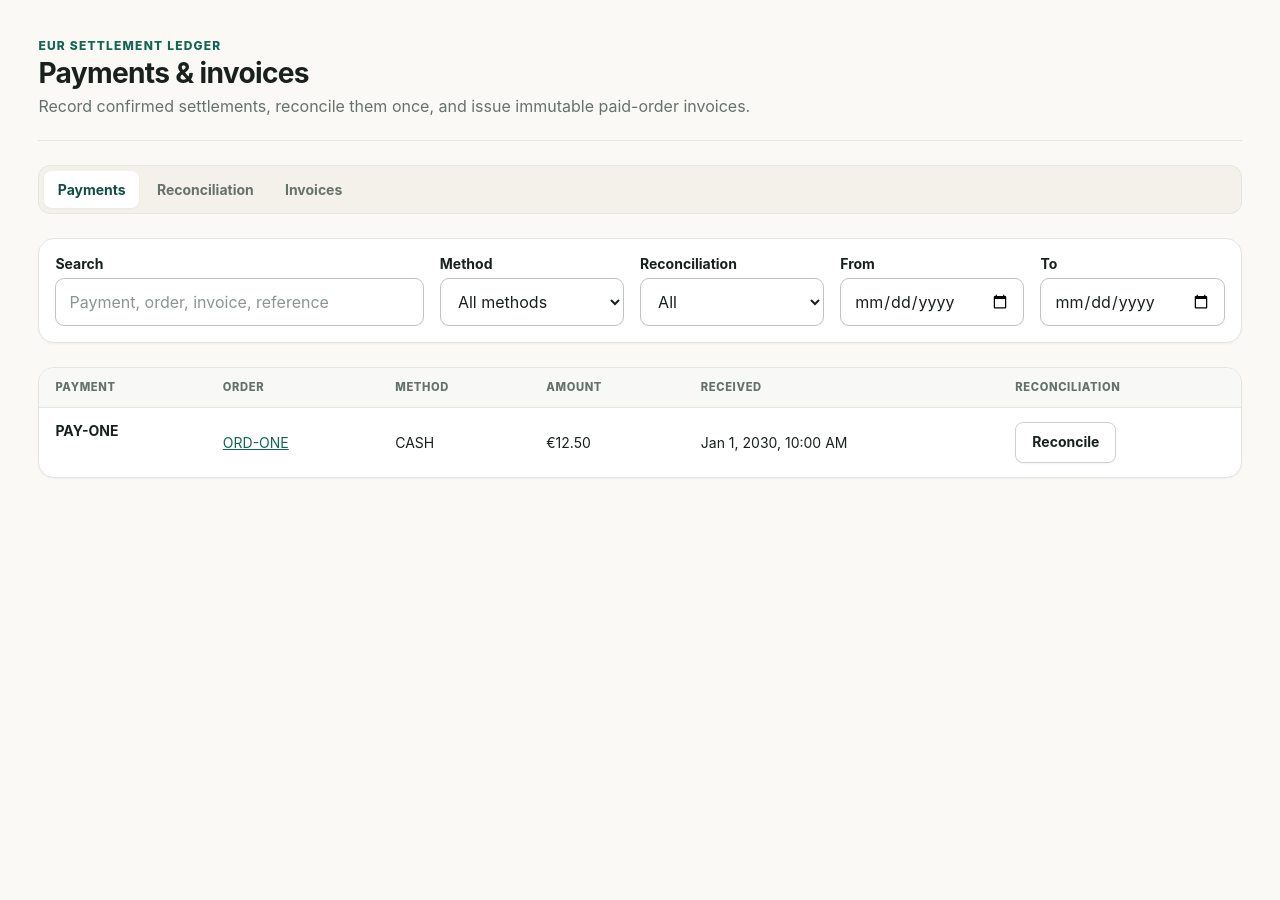
Test: payments page › shows immutable invoice detail and print controls
Step 1. Click the tab "Invoices" → point(314, 189), box [271,171,356,208]
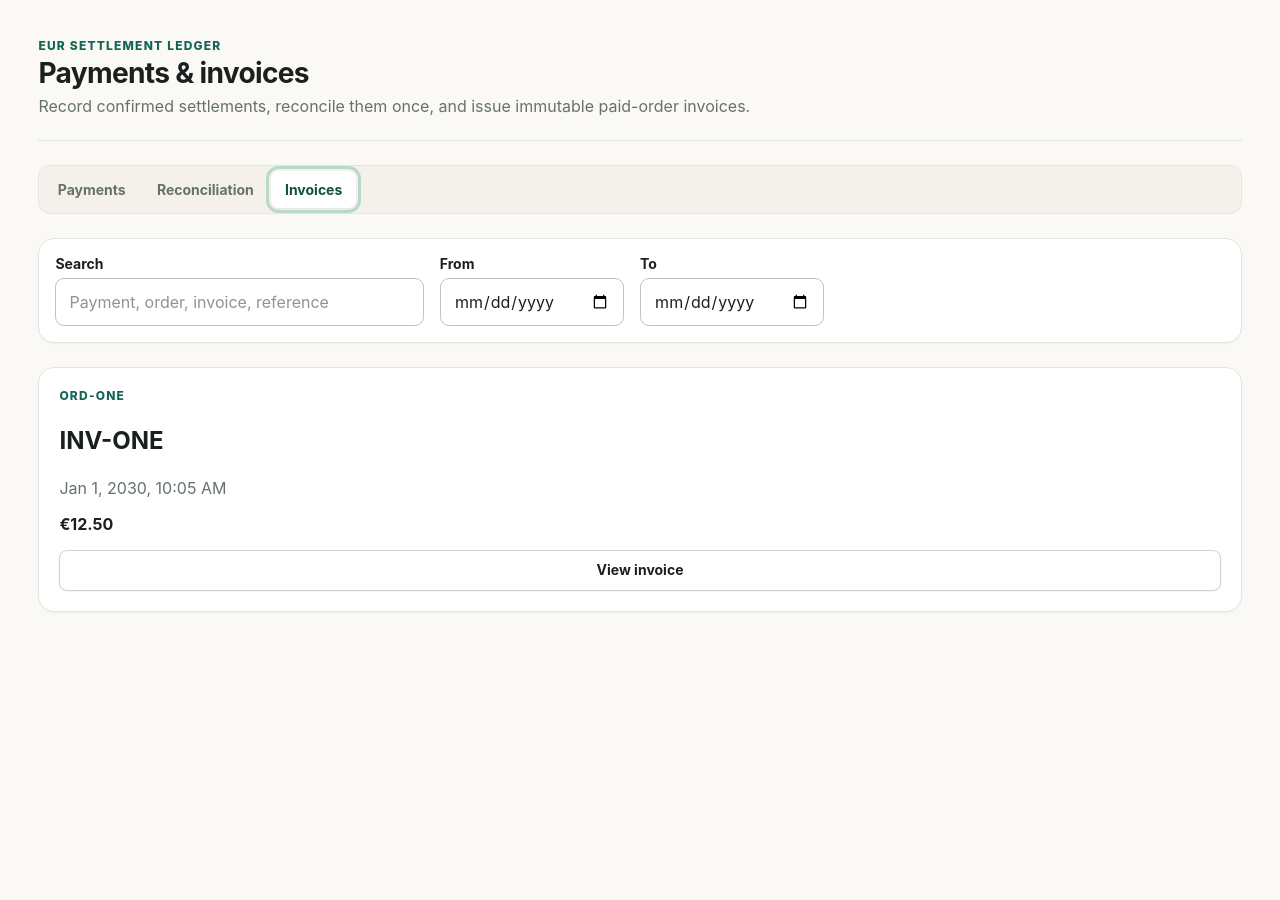
Step 2. Click the button "View invoice" → point(640, 570), box [59,550,1221,591]
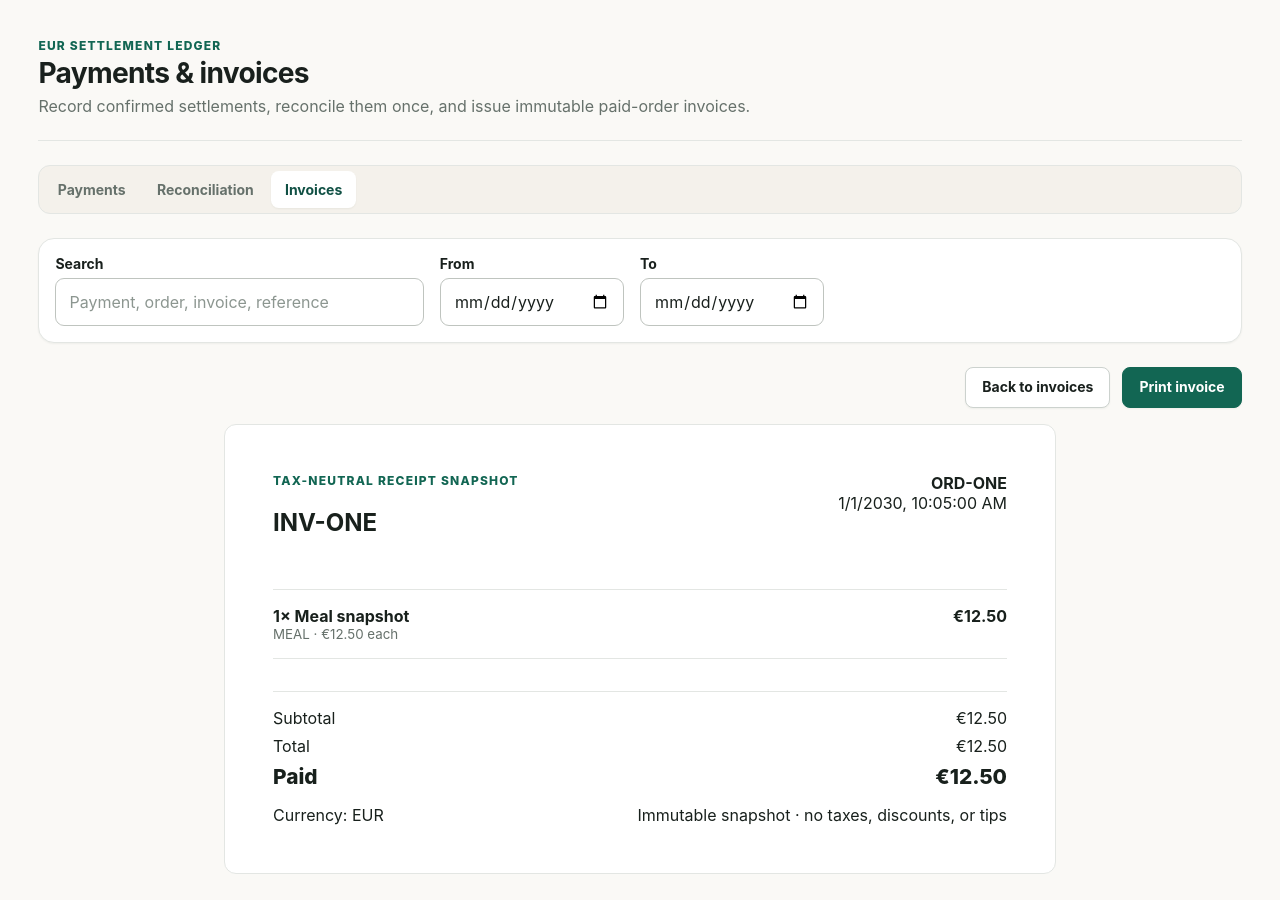
Expected: the heading "INV-ONE" is shown, [273,508,377,537]
Expected: the button "Print invoice" is shown, [1122,367,1242,408]
